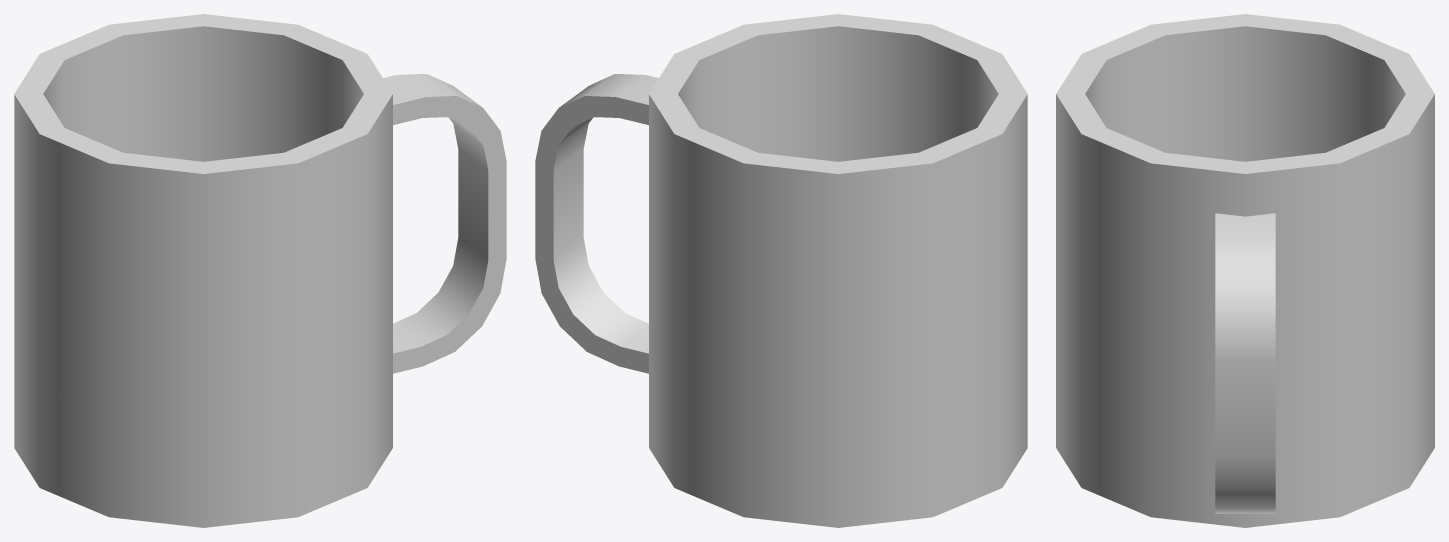
Rendered from coffee-cup.glb.
The picture shows the model from 3 angles, left to right: view 1: azimuth 30°, elevation 25°; view 2: azimuth 150°, elevation 25°; view 3: azimuth 270°, elevation 25°; orthographic projection.
Visible parts, largest first — view 1: CoffeeCup; view 2: CoffeeCup; view 3: CoffeeCup.
Part boxes in pixels (x1,y1,x2,y2): CoffeeCup: [14, 14, 506, 527]; CoffeeCup: [535, 14, 1027, 527]; CoffeeCup: [1056, 14, 1434, 527].
Size of the model in its own units: 0.1558 by 0.1166 by 0.1131.
Materials: 1 (1 with a texture image).
